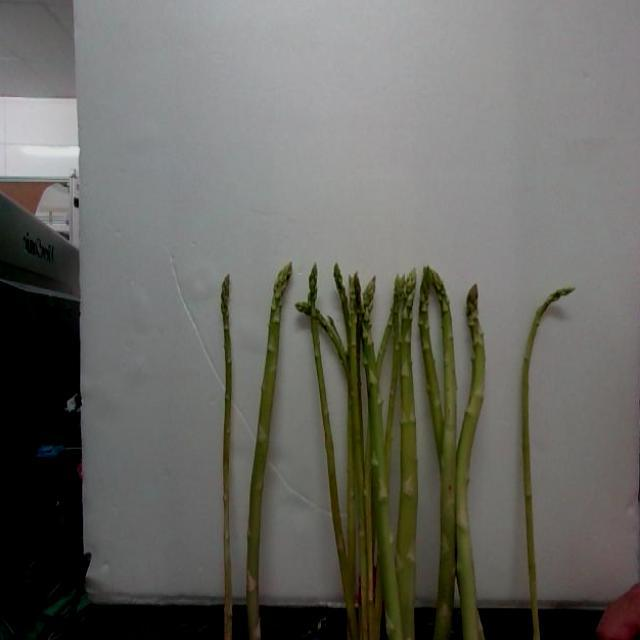aspargus: (521, 286, 576, 640), (247, 265, 293, 640), (453, 286, 488, 640), (217, 275, 234, 640)
